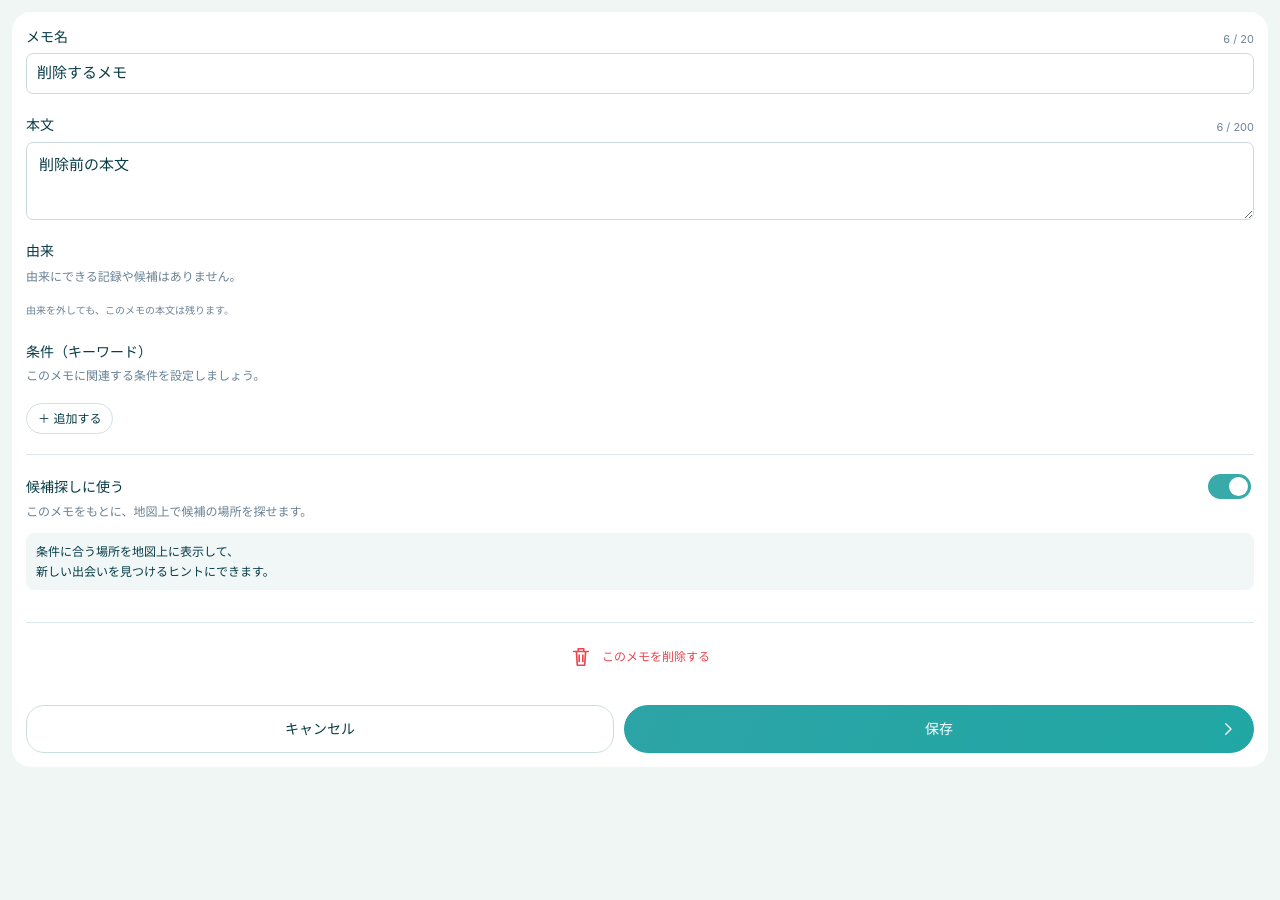
削除済みメモへ戻っても削除前の本文や操作を表示しない
This screenshot has width=1280, height=900.
What coordinates should you click on to do the following:
click the button "このメモを削除する"
I would click on:
 (640, 657)
Its box is [26, 639, 1254, 675].
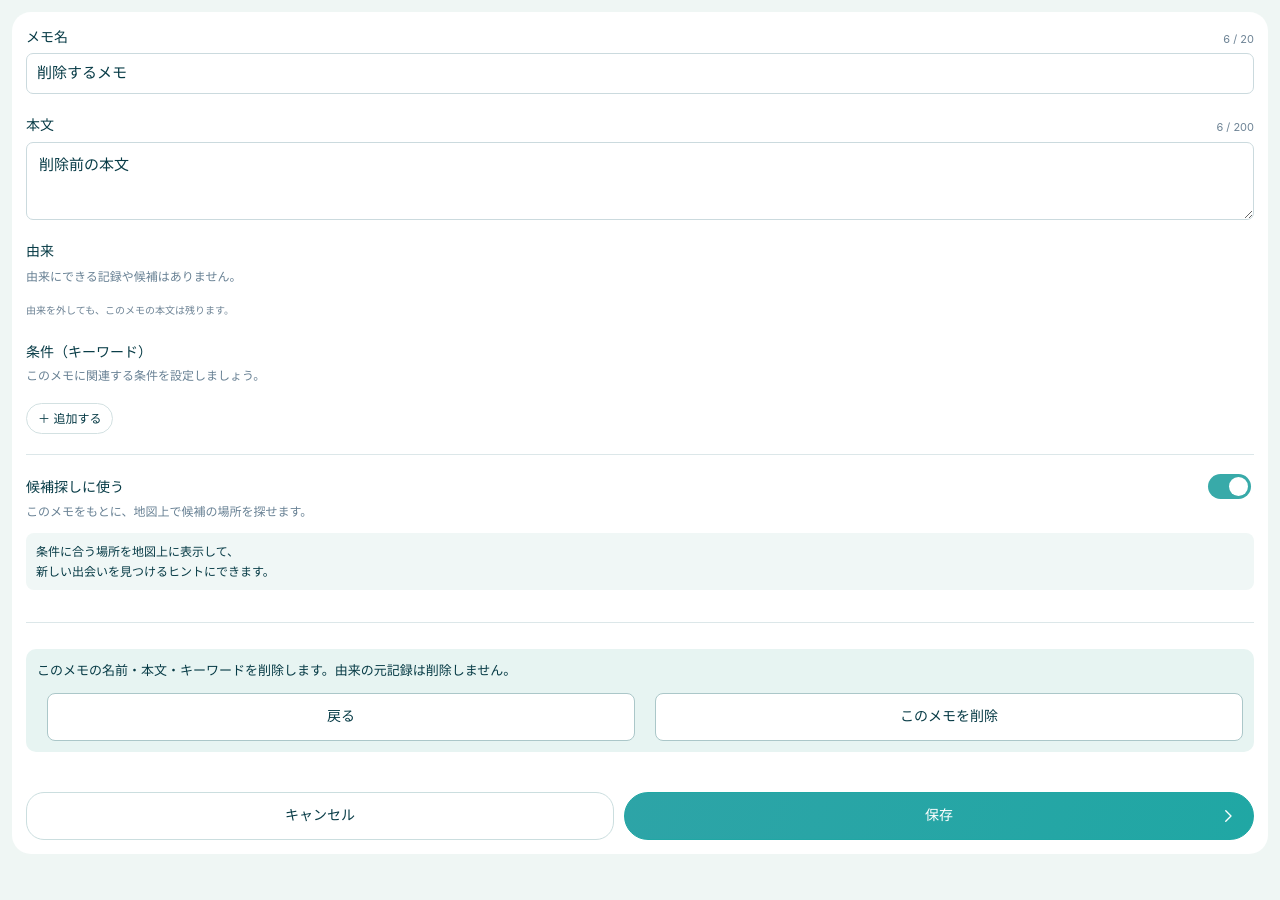
What coordinates should you click on to do the following:
click the button "このメモを削除"
I would click on:
 (949, 717)
Its box is [655, 693, 1243, 741].
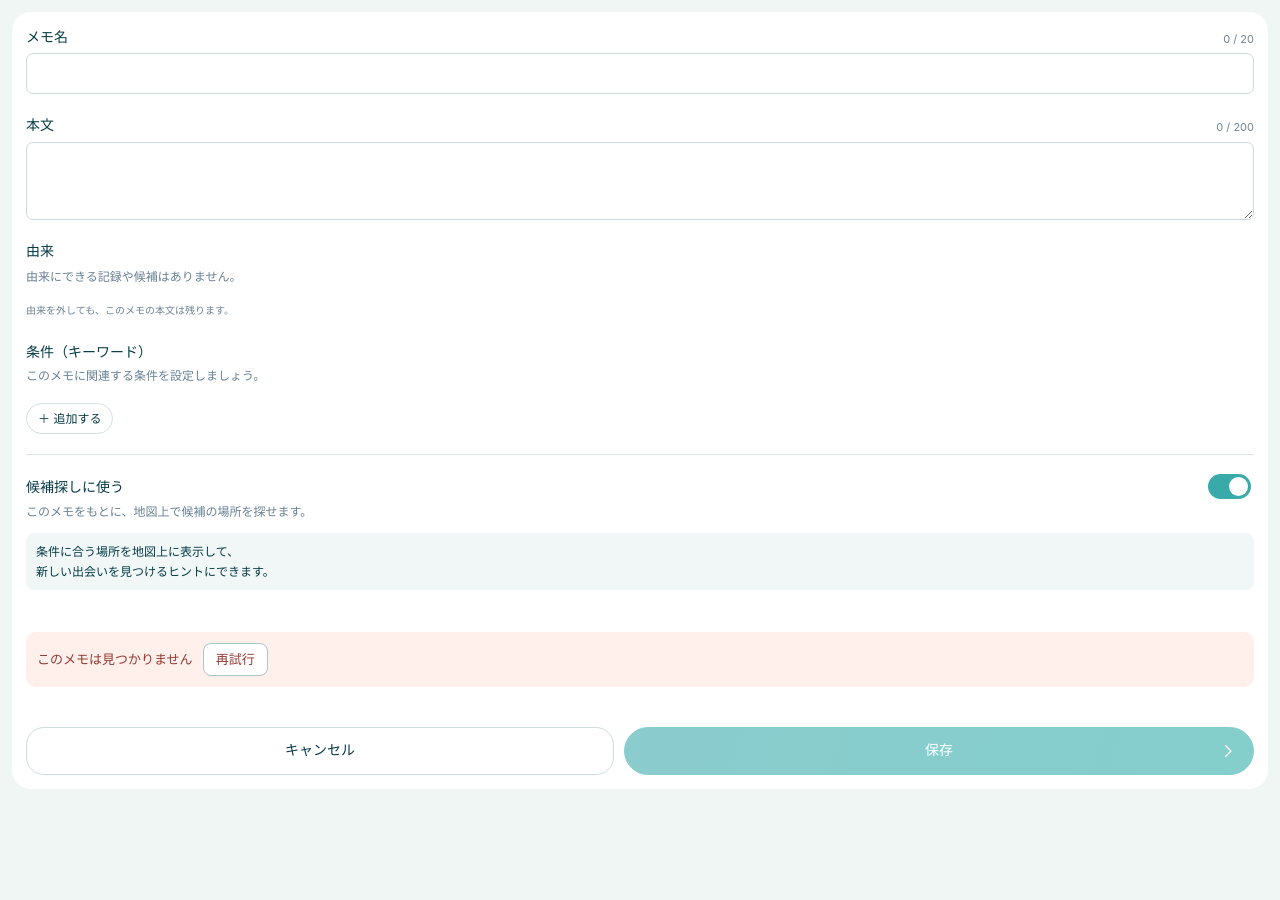
expect the text "このメモを削除する" is not shown: met
expect the text box labelled "本文" is empty: met, box [26, 142, 1254, 220]
expect the button "保存" is disabled: met, box [624, 727, 1254, 775]
